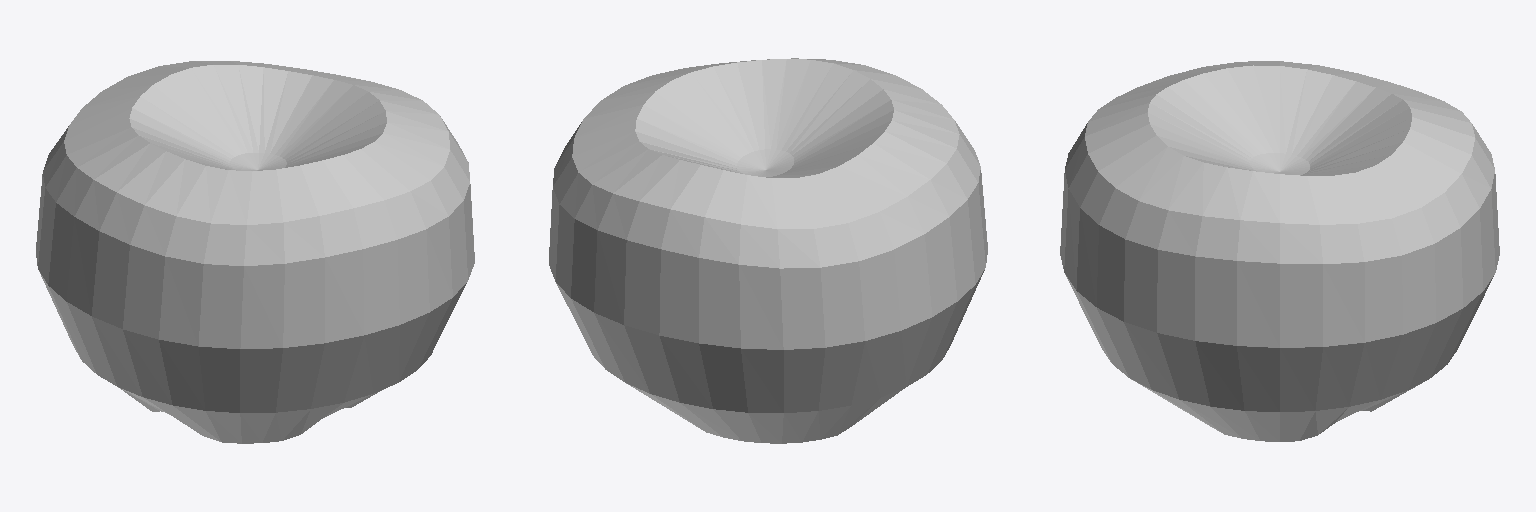
The model's file is apple_01.obj.
3 views of the same model, side by side, from view 1: azimuth 30°, elevation 25°; view 2: azimuth 150°, elevation 25°; view 3: azimuth 270°, elevation 25° (orthographic).
Parts seen in each view (by area): view 1: apple; view 2: apple; view 3: apple.
Part boxes in pixels (x1,y1,x2,y2): apple: (36,61,474,443); apple: (549,58,987,443); apple: (1060,61,1499,441).
Bounding box in the file's own units: 1.27 × 0.9193 × 1.27.